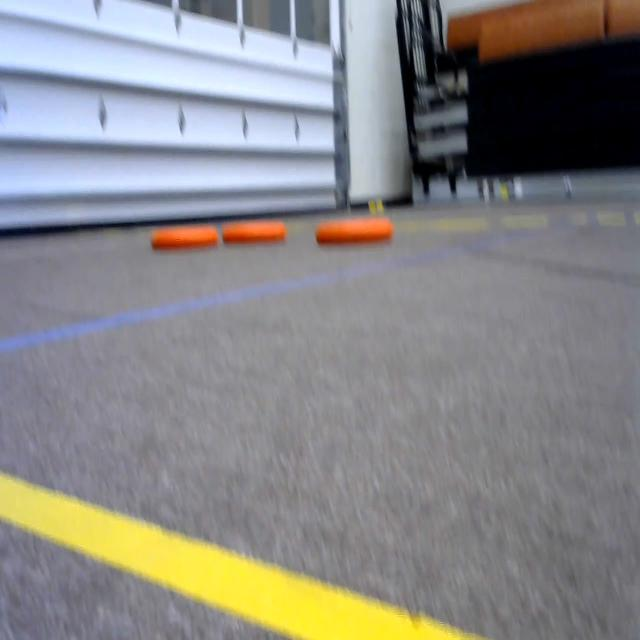note: (144, 210, 221, 252), (220, 208, 292, 250), (313, 212, 401, 244)
